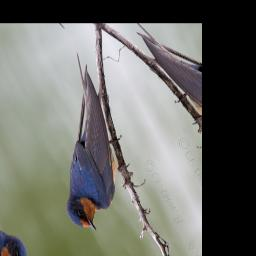Swallow: (6, 50, 155, 242)
